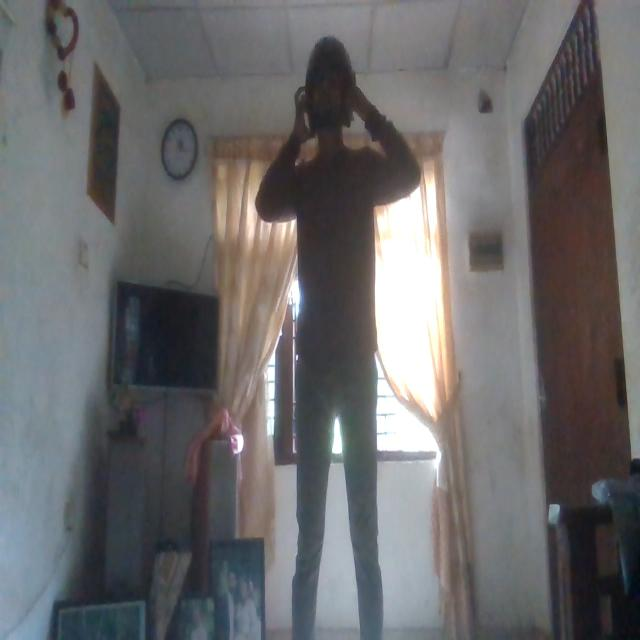Helmet_Wearer: (305, 19, 359, 148)
Person: (261, 41, 419, 640)
